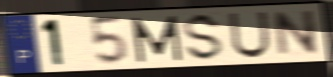1: (38, 17, 66, 69)
5: (87, 13, 131, 68)
M: (129, 14, 185, 64)
N: (272, 8, 321, 59)
S: (183, 12, 226, 63)
U: (227, 10, 272, 60)
